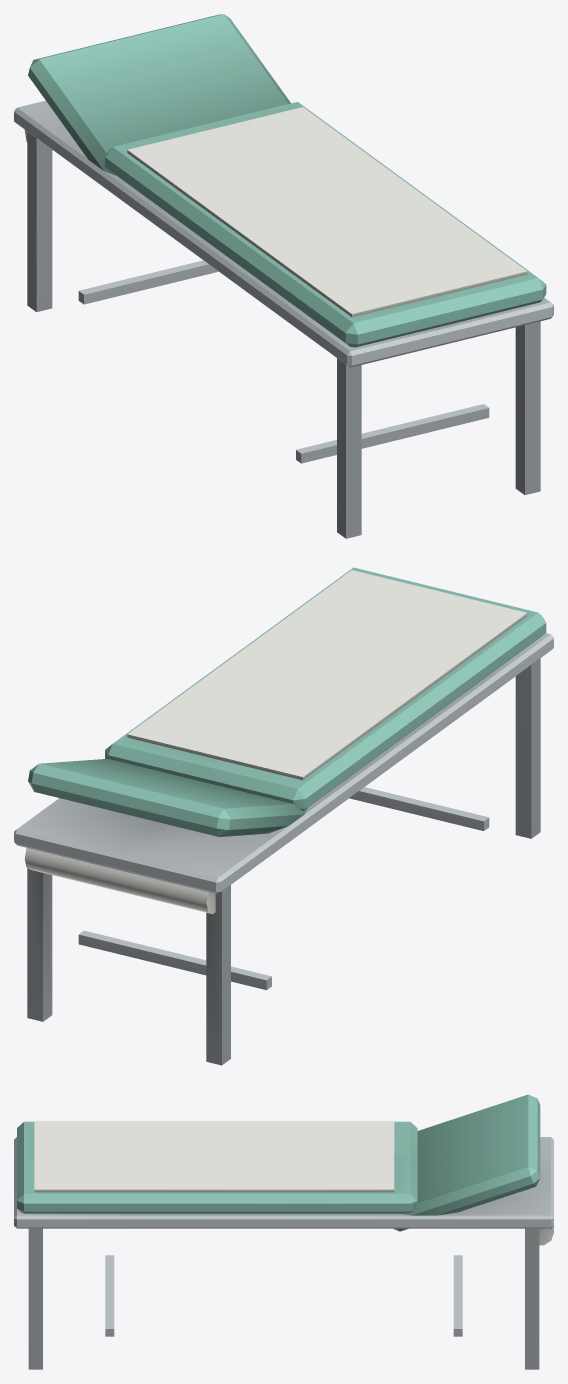
The model's file is couch.glb.
3 renders of one model, top to bottom at view 1: azimuth 30°, elevation 25°; view 2: azimuth 150°, elevation 25°; view 3: azimuth 270°, elevation 25°, orthographic. The views are drawn at different scales.
Parts seen in each view (by area): view 1: paper, pad, frame; view 2: paper, frame, pad, paper_roll; view 3: paper, pad, frame.
Part boxes in pixels (x1=…): paper: x1=127, y1=107, x2=527, y2=317; pad: x1=28, y1=14, x2=546, y2=347; frame: x1=14, y1=100, x2=553, y2=538; paper: x1=127, y1=570, x2=527, y2=780; frame: x1=14, y1=633, x2=553, y2=1065; pad: x1=28, y1=567, x2=546, y2=836; paper_roll: x1=24, y1=848, x2=215, y2=914; paper: x1=34, y1=1121, x2=394, y2=1192; pad: x1=17, y1=1094, x2=540, y2=1231; frame: x1=14, y1=1137, x2=553, y2=1369.
Size of the model in its own units: 0.6599 by 0.7633 by 1.86.
